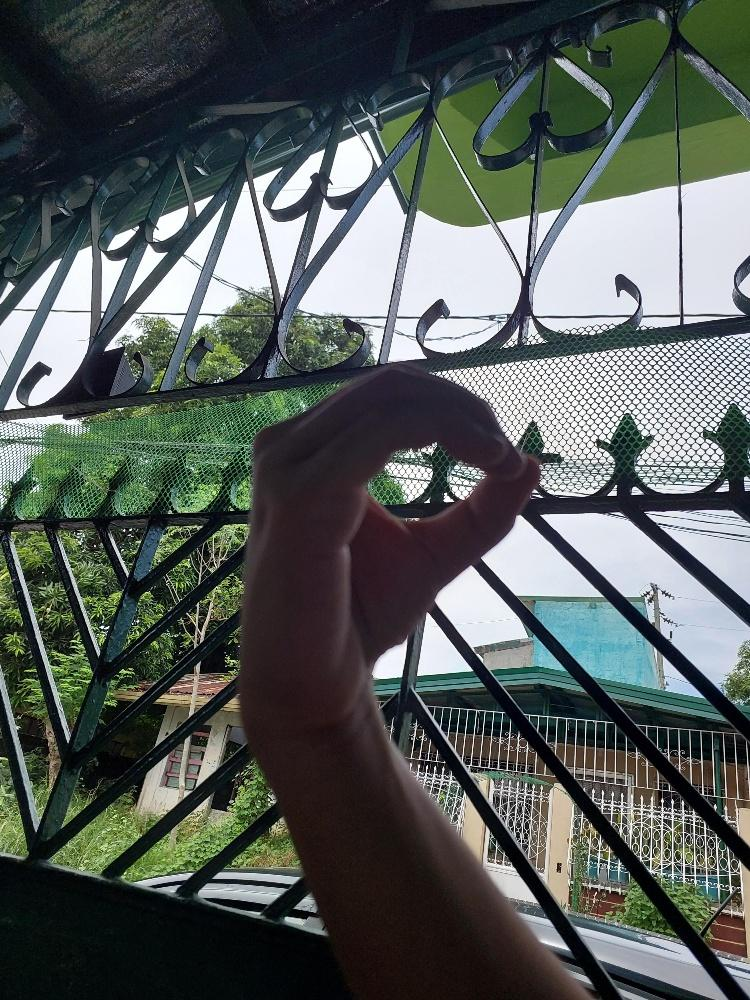o: (234, 357, 541, 726)
